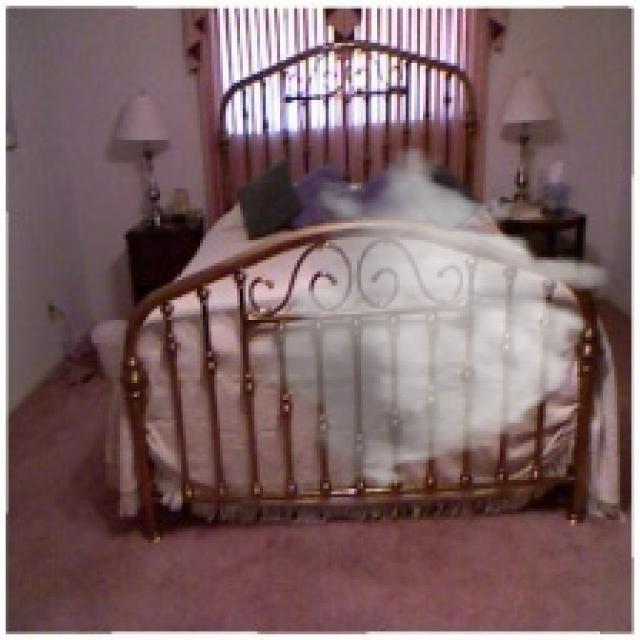smoke: (249, 146, 614, 491)
